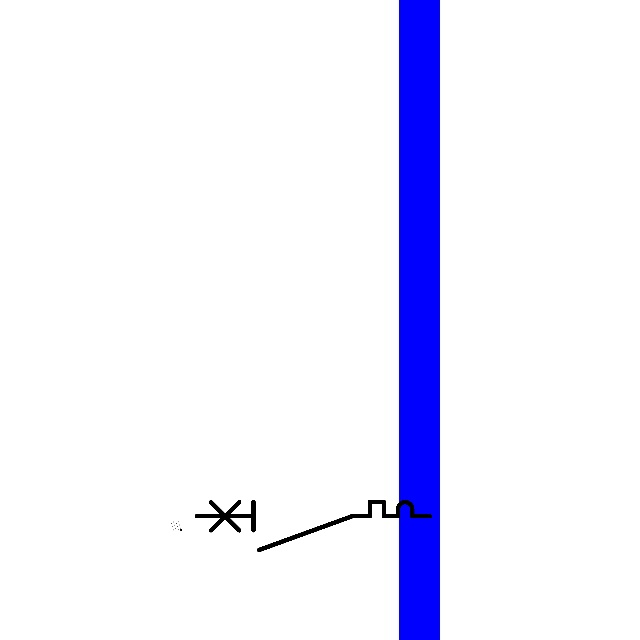interruptor_termomagnetico: (190, 496, 435, 556)
